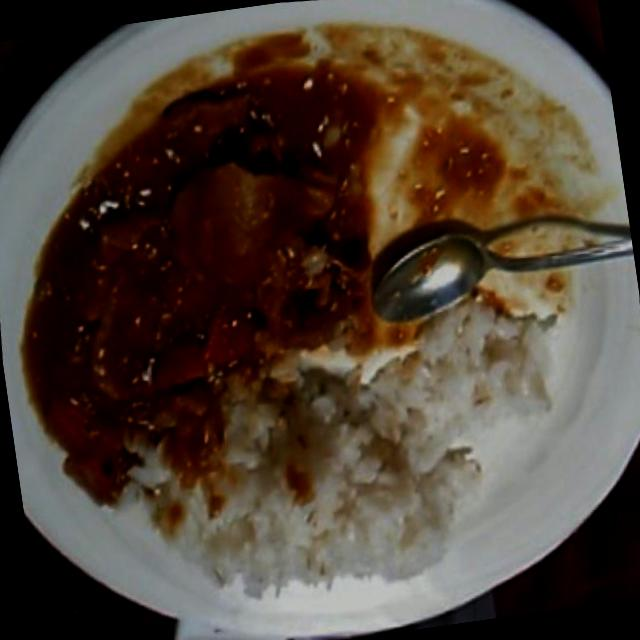Beef Curry: (7, 110, 372, 452)
Rice: (138, 281, 576, 635)
